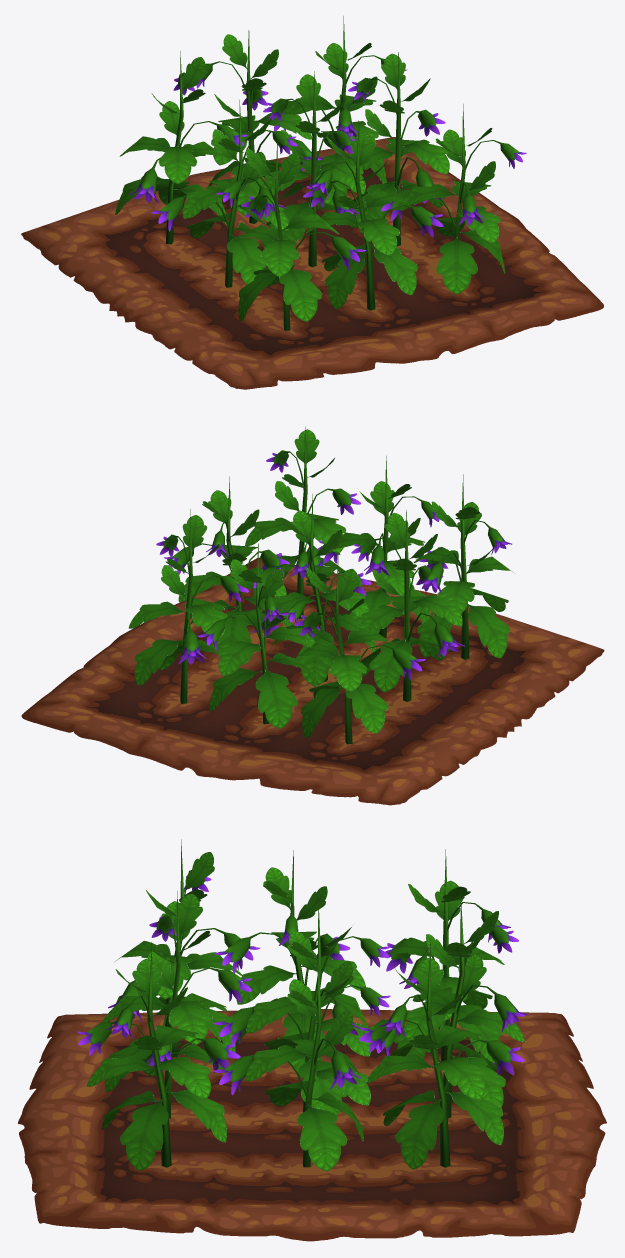
Rendered from EggPlant_Field_Lv2.FBX.
3 renders of one model, top to bottom at view 1: azimuth 30°, elevation 25°; view 2: azimuth 150°, elevation 25°; view 3: azimuth 270°, elevation 25°, orthographic. The views are drawn at different scales.
Parts seen in each view (by area): view 1: EggPlant_Field_Lv2; view 2: EggPlant_Field_Lv2; view 3: EggPlant_Field_Lv2.
Part boxes in pixels (bbox=[...]): EggPlant_Field_Lv2: bbox=[21, 16, 603, 389]; EggPlant_Field_Lv2: bbox=[21, 426, 604, 805]; EggPlant_Field_Lv2: bbox=[18, 839, 606, 1241].
Bounding box in the file's own units: 274 × 128 × 296.
